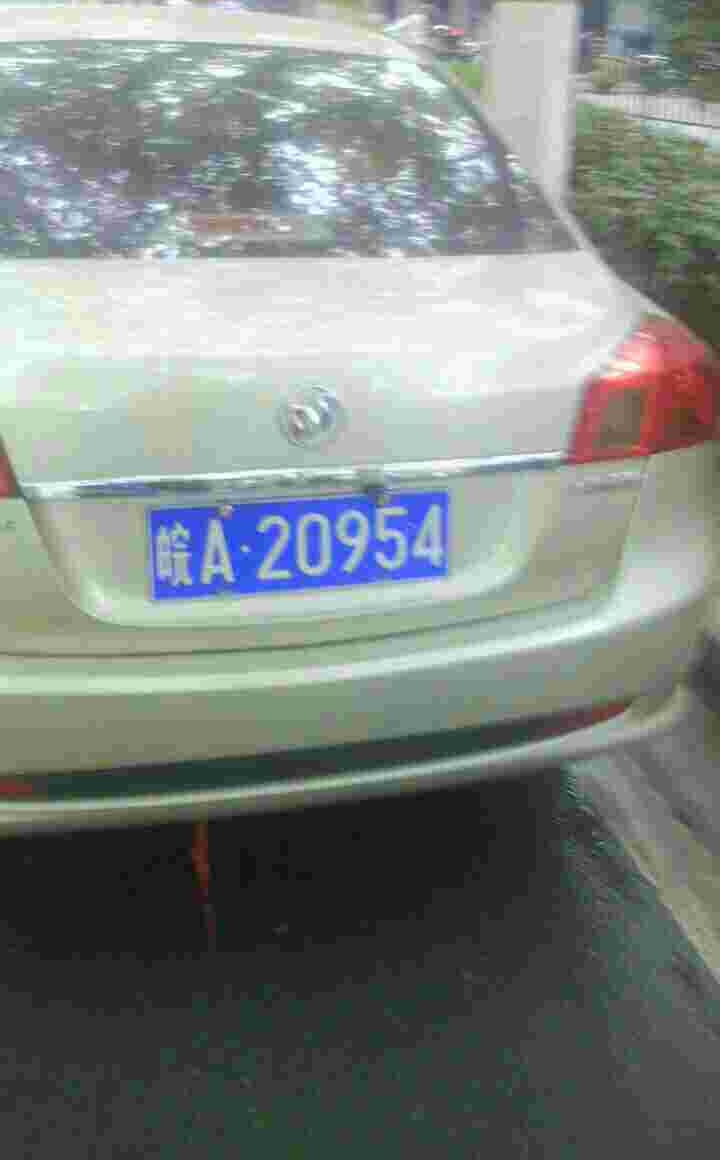license_plate: (147, 500, 450, 603)
